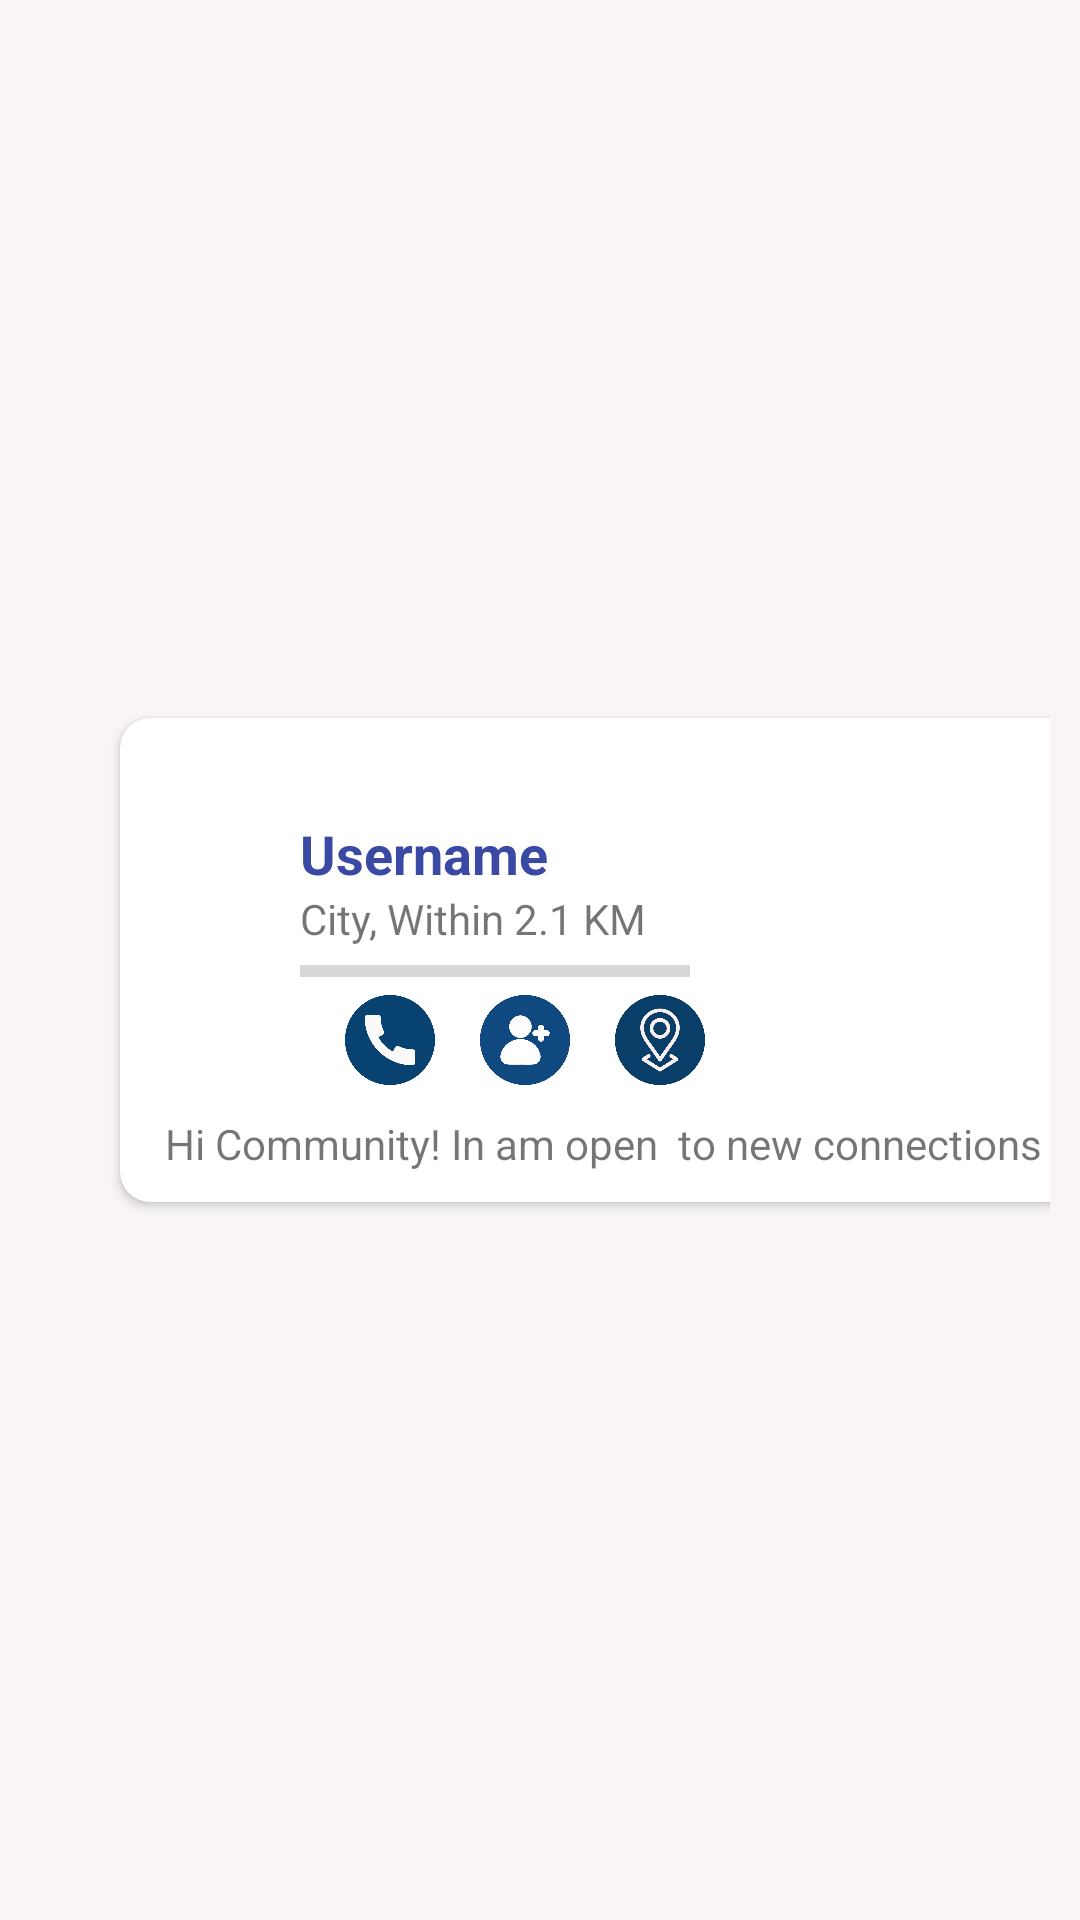

Point at icon controls on the screen. Image size 1080 × 1920, points as (x=x, y=y).
add contact: (x=525, y=1040)
location: (x=660, y=1040)
telephone: (x=390, y=1040)
